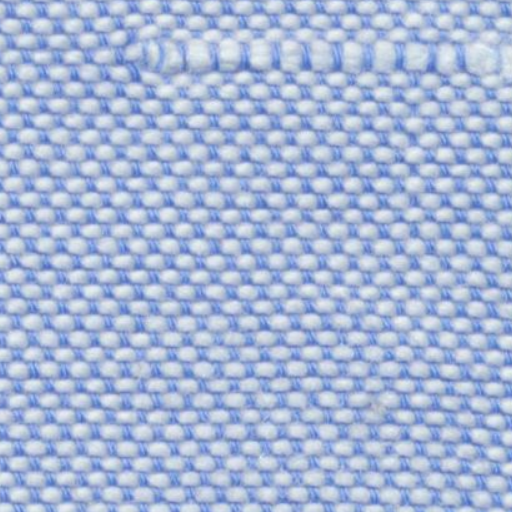DaiSha: (136, 19, 498, 102)
